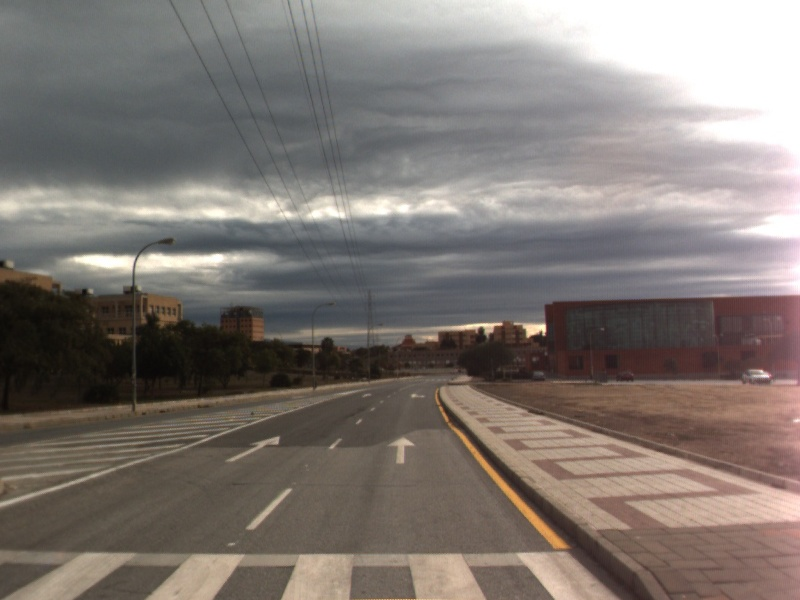STRAIGHT: (223, 434, 282, 464), (385, 434, 418, 466)
